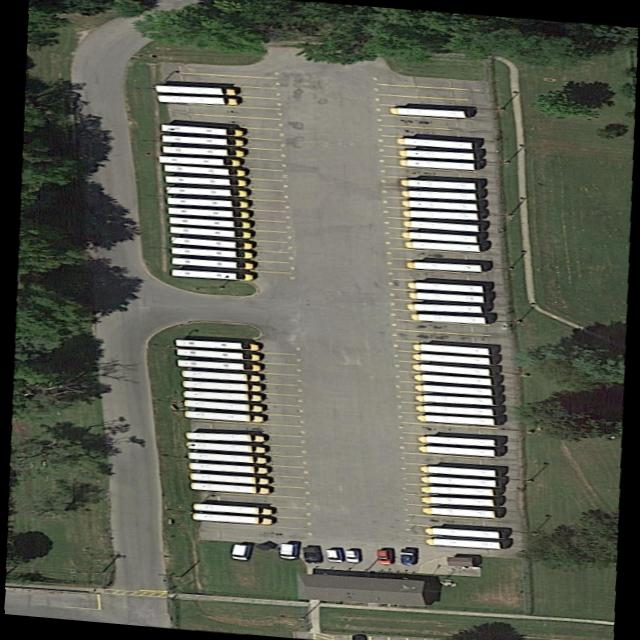large-vehicle: (176, 357, 261, 371), (162, 162, 246, 176), (181, 398, 261, 412), (157, 122, 243, 135), (189, 479, 268, 493), (171, 235, 250, 249), (169, 256, 253, 269), (175, 347, 259, 360), (175, 337, 259, 350), (159, 133, 242, 146), (168, 215, 250, 228), (168, 205, 249, 218), (190, 511, 270, 524), (413, 412, 492, 425), (188, 471, 267, 484), (191, 502, 270, 515), (186, 460, 265, 473), (186, 450, 265, 463), (185, 440, 264, 453), (181, 378, 260, 391), (183, 409, 261, 422), (413, 371, 490, 384), (162, 173, 245, 185), (169, 268, 251, 280), (167, 225, 249, 237), (414, 351, 489, 364), (402, 218, 477, 231), (401, 229, 476, 242), (412, 341, 487, 354), (165, 185, 246, 197), (415, 382, 489, 395), (170, 245, 250, 257), (415, 434, 493, 446), (414, 444, 492, 456), (416, 474, 494, 486), (414, 362, 486, 375), (180, 368, 258, 380), (183, 430, 261, 442), (156, 93, 241, 104), (416, 464, 493, 476), (406, 239, 477, 252), (394, 136, 470, 148), (160, 144, 242, 155), (157, 154, 239, 165), (166, 196, 248, 207), (154, 83, 235, 94), (402, 198, 476, 210), (408, 280, 482, 292), (418, 526, 498, 537), (181, 389, 261, 400), (410, 311, 483, 323), (413, 403, 491, 414), (415, 393, 492, 404), (397, 148, 473, 159), (399, 177, 475, 188), (424, 537, 500, 548), (405, 260, 479, 271), (390, 106, 464, 117), (402, 188, 474, 199), (408, 290, 480, 301), (417, 506, 493, 516), (418, 495, 493, 505), (401, 209, 475, 219), (418, 485, 492, 495), (407, 302, 480, 312), (400, 158, 471, 168)
small-vehicle: (226, 539, 252, 561), (296, 542, 324, 562), (396, 544, 420, 564), (319, 545, 345, 563), (275, 540, 297, 559), (373, 545, 394, 564), (341, 546, 358, 562)
